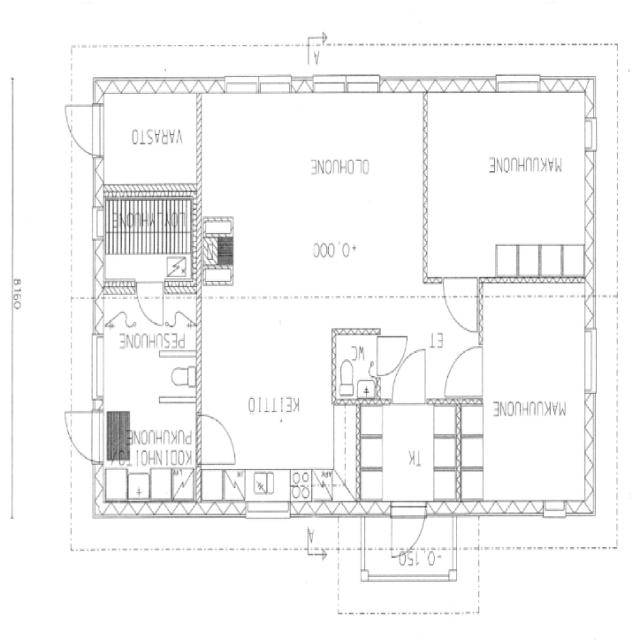door: (196, 78, 432, 295), (422, 76, 594, 283), (199, 298, 341, 499), (333, 328, 380, 401), (438, 337, 486, 402), (438, 272, 483, 337), (388, 342, 432, 406), (197, 409, 238, 468), (387, 501, 430, 557), (64, 100, 100, 159), (373, 332, 409, 386), (63, 406, 97, 463), (136, 278, 165, 328)
window: (580, 294, 601, 408), (221, 70, 298, 97), (491, 68, 549, 94)
zone: (474, 273, 594, 516), (99, 344, 198, 506), (95, 80, 200, 194), (358, 398, 463, 507), (100, 190, 194, 269), (102, 344, 198, 406), (334, 328, 381, 402)
